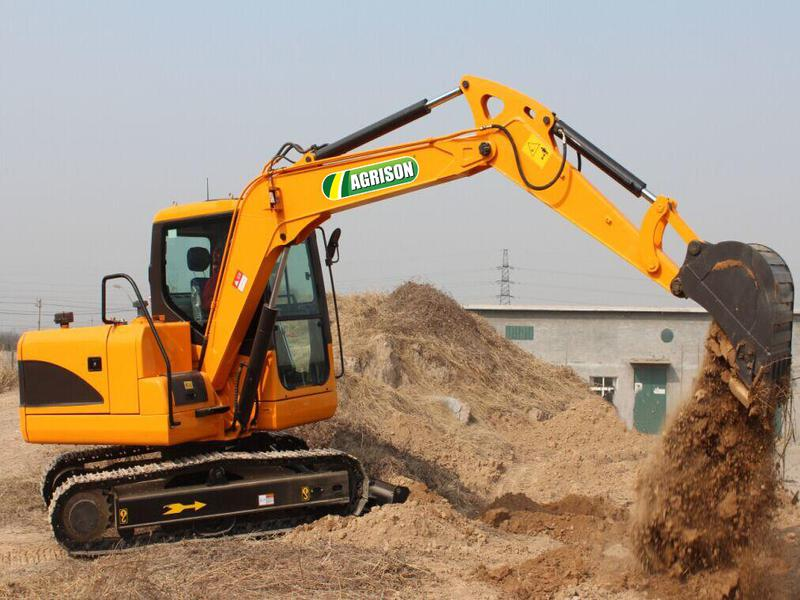shovel: (3, 70, 800, 561)
